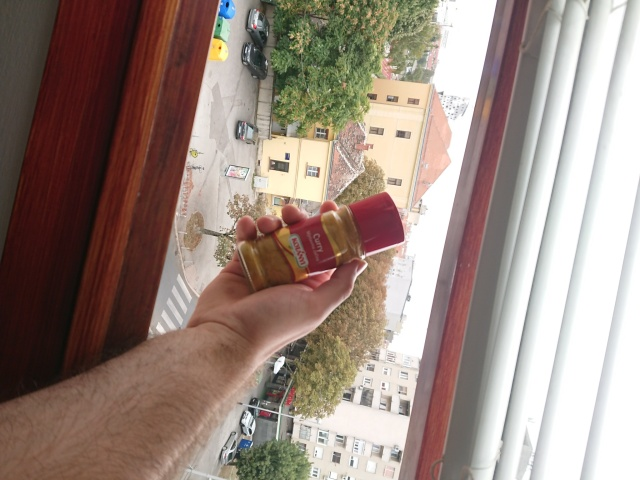Kotanyi Curry Spices Mix 70g: (233, 189, 408, 296)
